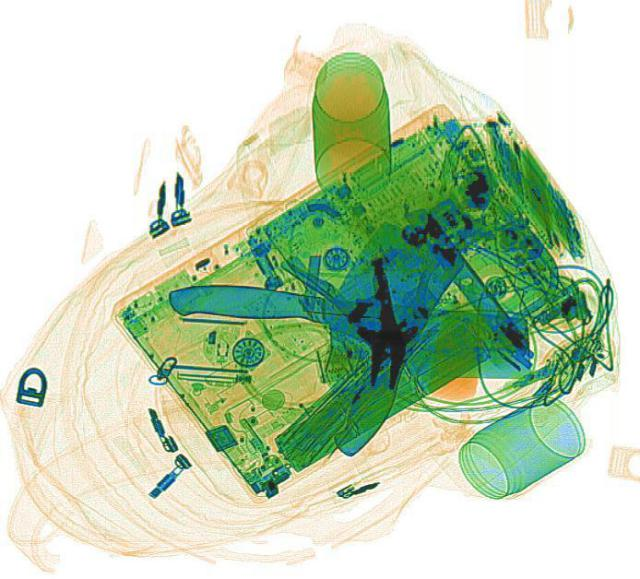Knife: (270, 218, 468, 459), (159, 277, 537, 386)
